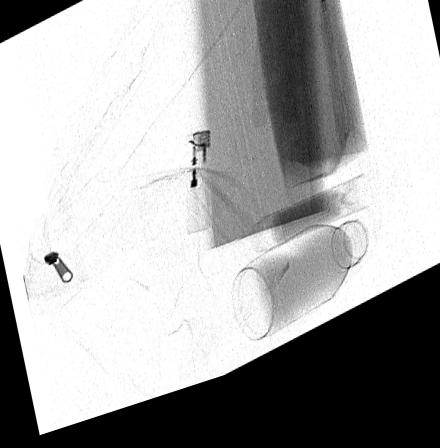Lighter: (184, 142, 210, 246)
